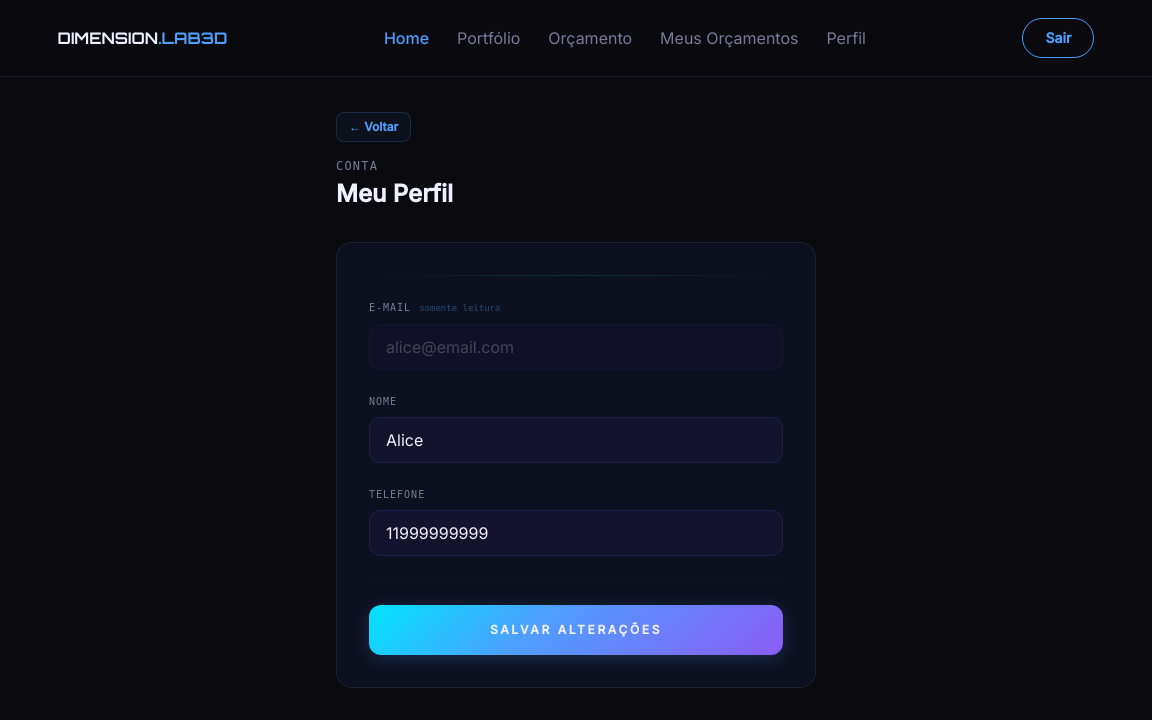
Scenario: Profile page › shows success feedback after save
Click the button "Salvar alterações": (576, 630) [369,604,783,654]
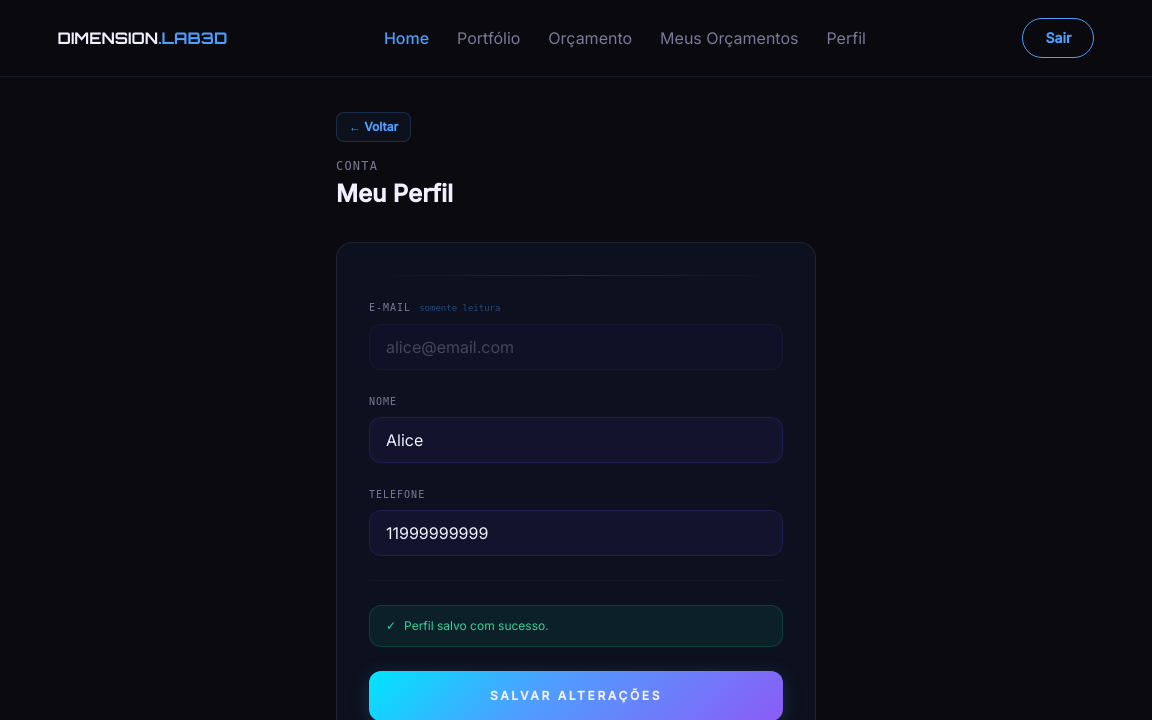
Expected: the text "✓ Perfil salvo com sucesso." is shown, [369,604,783,646]
